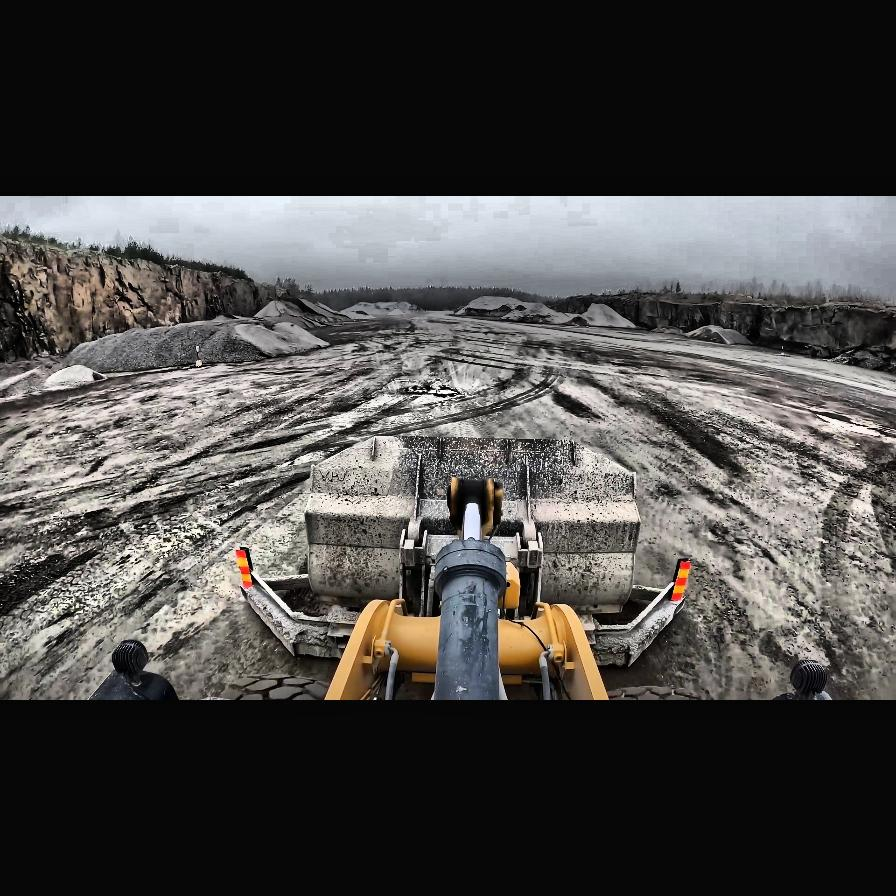anchor: (447, 476, 500, 536)
pile of gravel: (60, 318, 320, 372), (454, 296, 582, 324), (259, 298, 351, 326), (453, 296, 526, 316), (682, 325, 754, 345), (584, 303, 640, 327), (44, 365, 105, 387), (253, 300, 296, 318), (398, 302, 428, 314), (351, 310, 377, 320), (374, 302, 398, 310), (386, 308, 405, 316), (454, 307, 468, 315)
